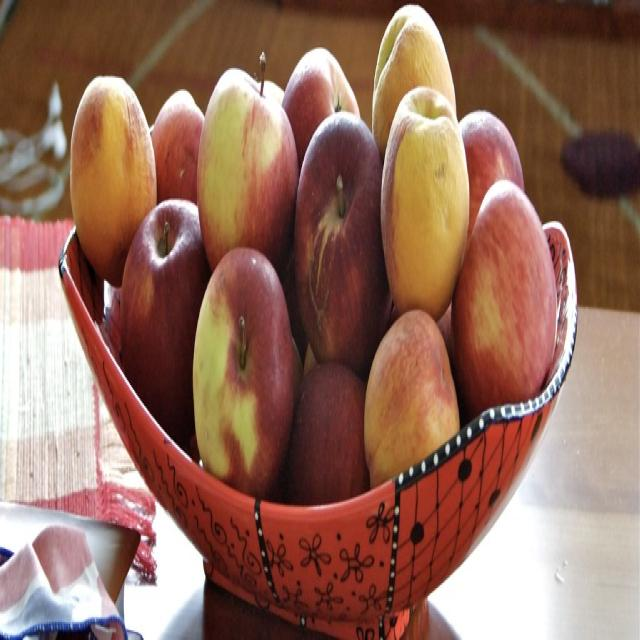Peach: (382, 89, 468, 319), (68, 72, 158, 280), (372, 0, 455, 164)
